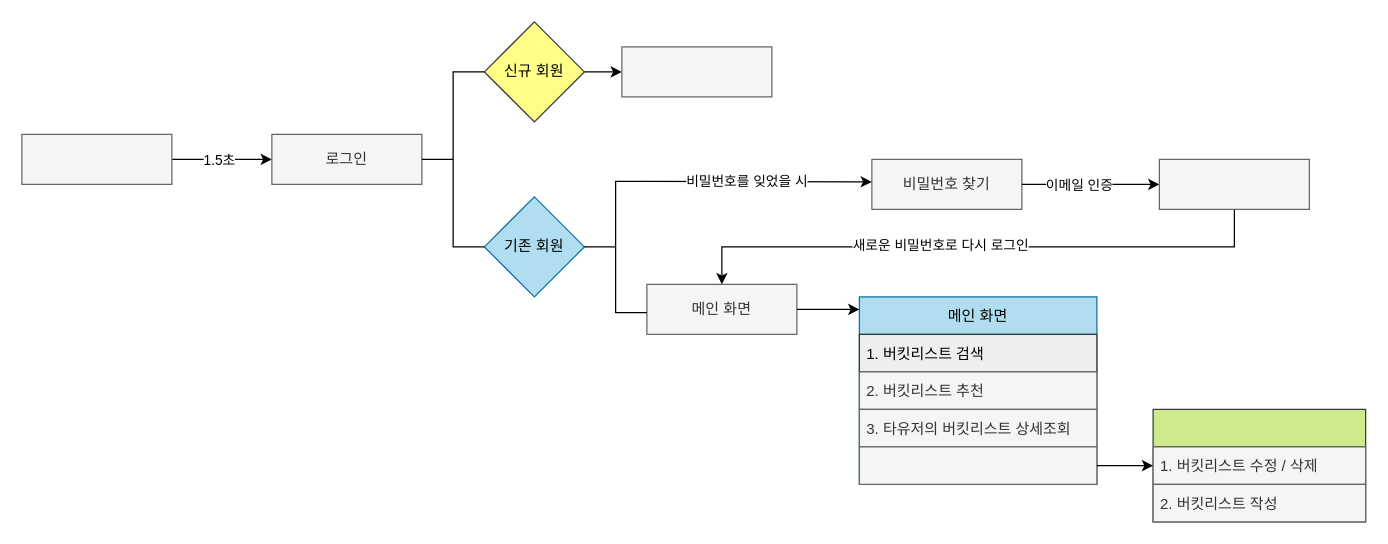
This 1388x544 diagram has some shape labels left out. The shapes that lost their labels are listed below. From the top down, each one's box as (x1, y1, x2, y2) in pixels, then its label:
(621, 46, 772, 97): 회원가입
(21, 133, 172, 184): 런처 화면
(1158, 158, 1309, 209): 새 비밀번호 입력
(858, 446, 1097, 484): 4. 나의 버킷리스트 조회
(1152, 408, 1366, 522): 4. 나의 버킷 조회
